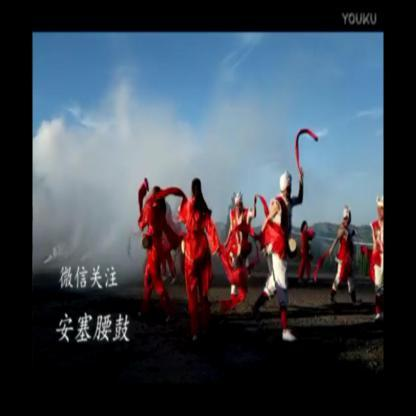smoke: (32, 110, 136, 262)
